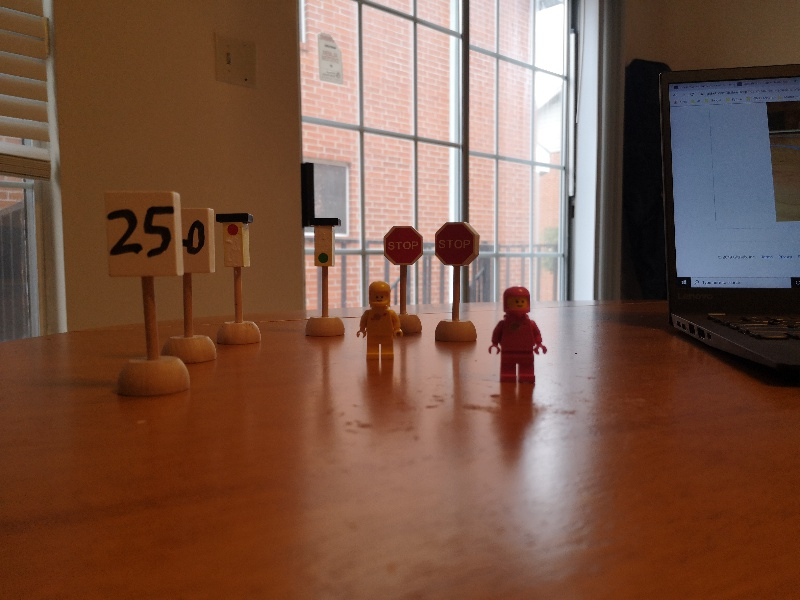Green Traffic Light: (303, 218, 342, 269)
Person: (488, 285, 548, 385), (355, 281, 405, 360)
Red Traffic Light: (216, 213, 256, 272)
Speed Limit 25: (101, 190, 185, 277)
Speed Limit 40: (181, 209, 215, 275)
Stop Sign: (434, 222, 482, 268), (379, 224, 427, 268)
